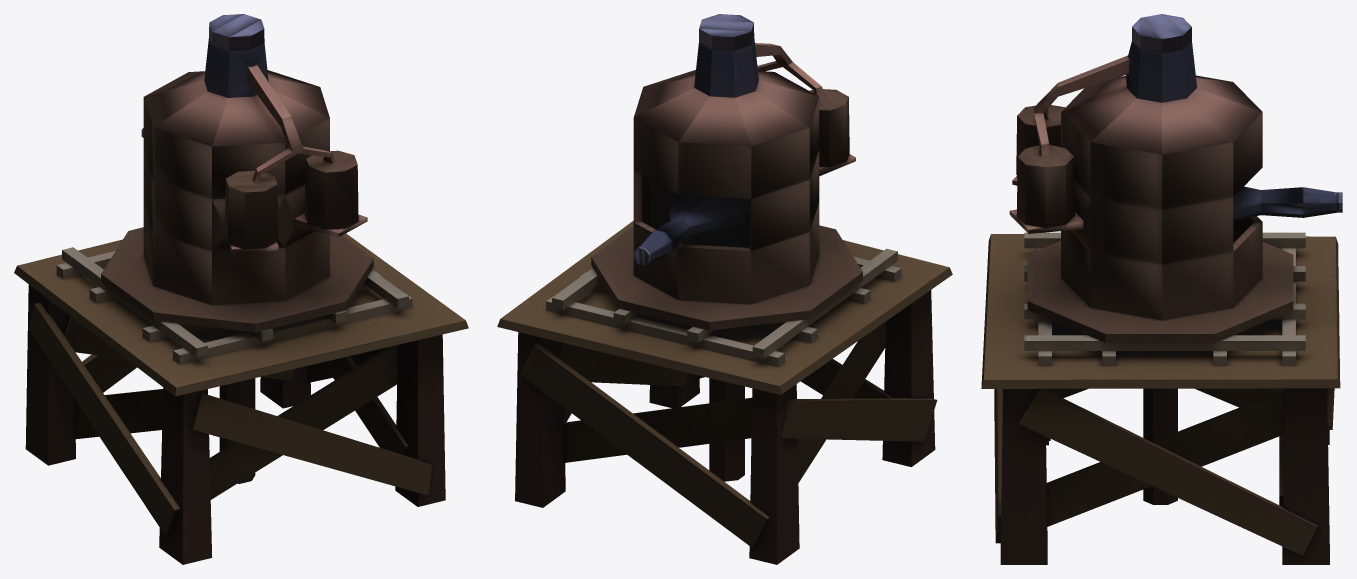
Rendered from tile_flamethrower_lod1.fbx.
3 renders of one model, left to right at view 1: azimuth 30°, elevation 25°; view 2: azimuth 150°, elevation 25°; view 3: azimuth 270°, elevation 25°, orthographic. The views are drawn at different scales.
Visible parts, largest first — view 1: Base_lod1, Flame_Launcher_lod1; view 2: Base_lod1, Flame_Launcher_lod1; view 3: Flame_Launcher_lod1, Base_lod1.
Boxes of the visible parts, left/top/right/bottom form: Base_lod1: left=14, top=233, right=468, bottom=564; Flame_Launcher_lod1: left=101, top=14, right=373, bottom=483; Base_lod1: left=497, top=220, right=952, bottom=564; Flame_Launcher_lod1: left=591, top=14, right=862, bottom=481; Flame_Launcher_lod1: left=1009, top=14, right=1342, bottom=504; Base_lod1: left=981, top=232, right=1340, bottom=564.
Bounding box in the file's own units: 0.0327 × 0.0485 × 0.0337.
